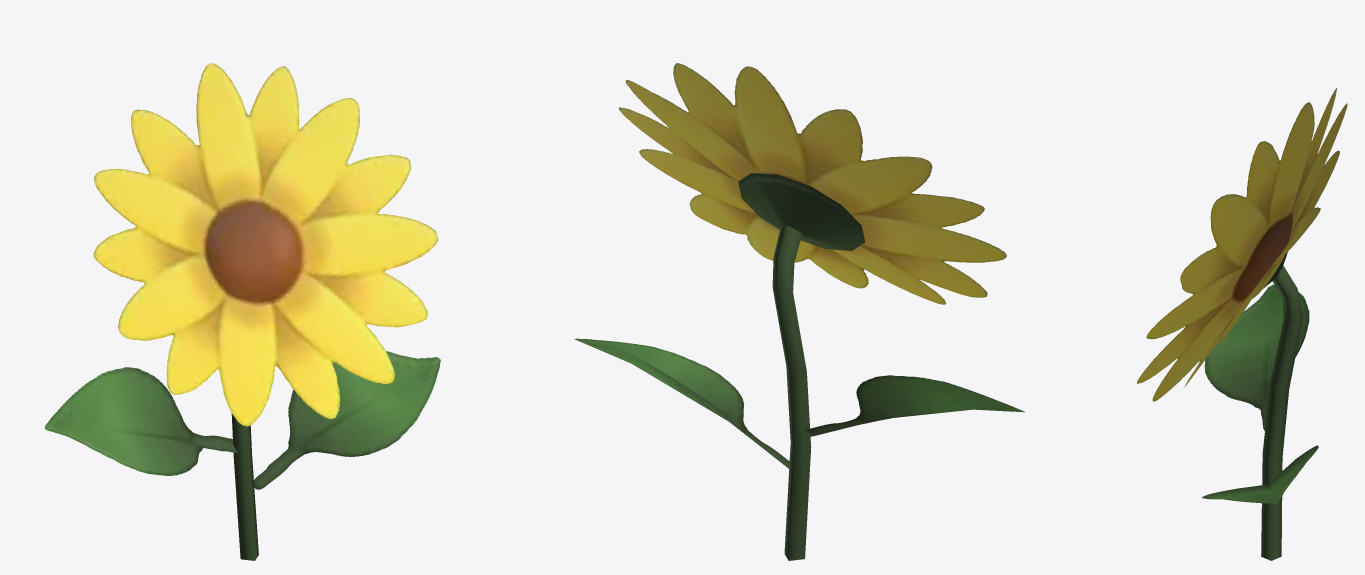
Rendered from sunflower.glb.
3 renders of one model, left to right at view 1: azimuth 30°, elevation 25°; view 2: azimuth 150°, elevation 25°; view 3: azimuth 270°, elevation 25°, orthographic. The views are drawn at different scales.
Visible parts, largest first — view 1: sunflower; view 2: sunflower; view 3: sunflower.
Boxes of the visible parts, x1=… form: sunflower: x1=44, y1=63, x2=440, y2=560; sunflower: x1=574, y1=63, x2=1024, y2=560; sunflower: x1=1137, y1=88, x2=1347, y2=560.
Bounding box in the file's own units: 0.5575 × 0.5527 × 0.2429.
1 material, 1 textured.
